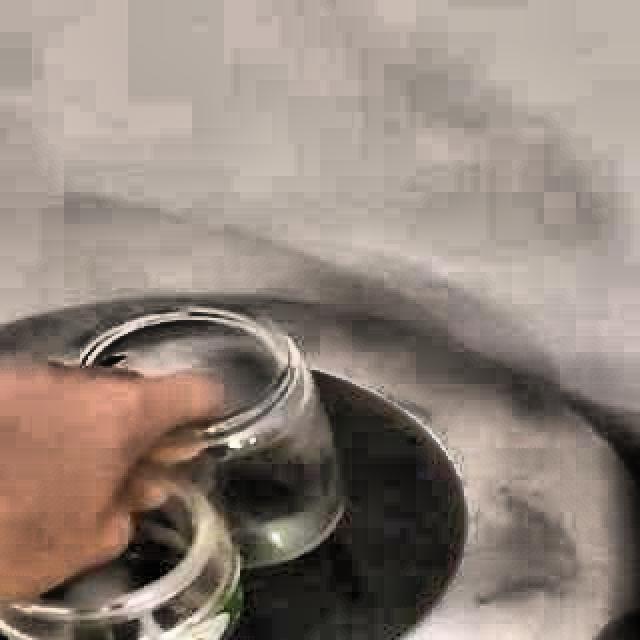glass: (0, 308, 344, 640)
